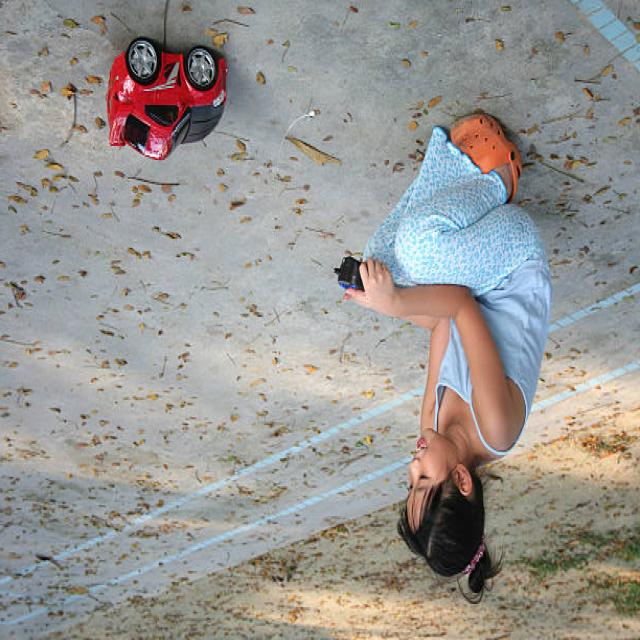Car: (107, 38, 229, 163)
